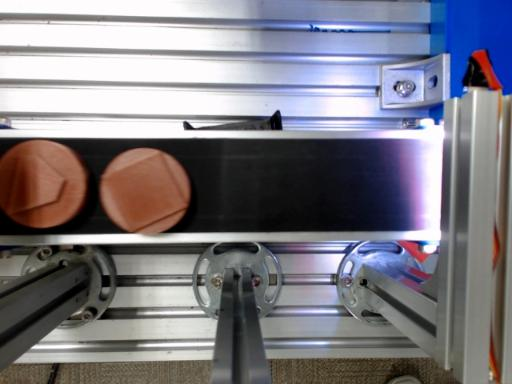Brown_Waper: (0, 140, 90, 228), (100, 148, 190, 234)
